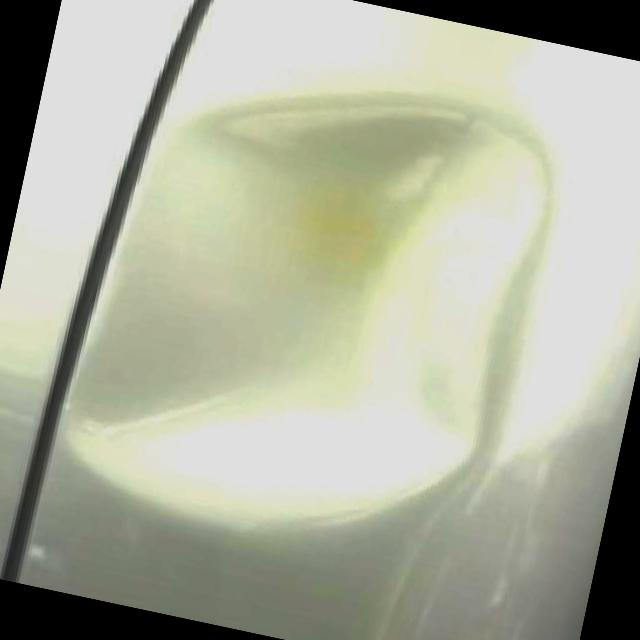dent: (44, 46, 556, 575)
